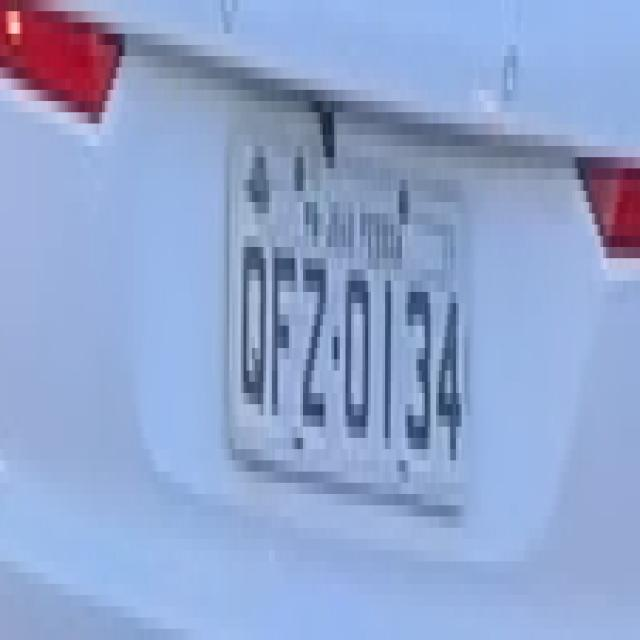Placa_mercosul_carro: (227, 93, 471, 523)
